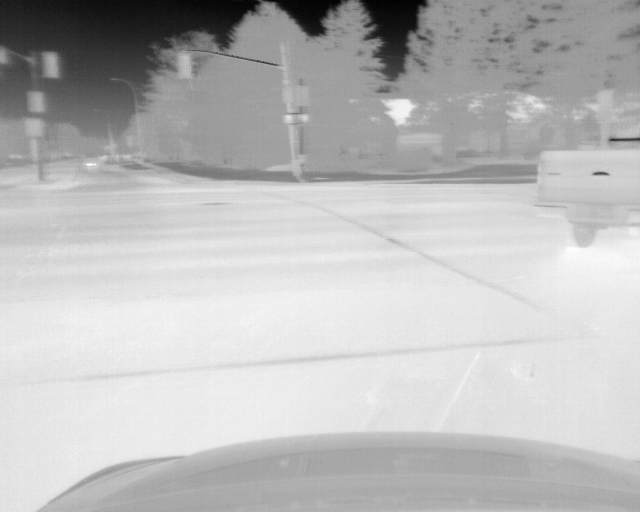car: (531, 114, 640, 248), (78, 151, 101, 172)
